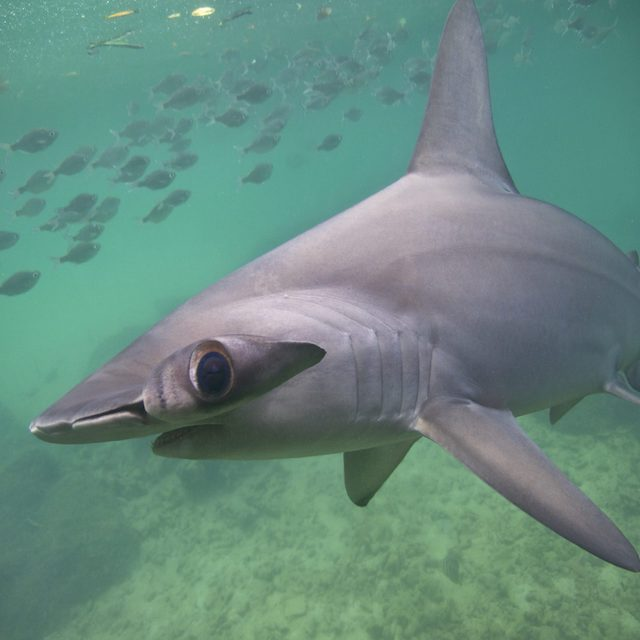hammerhead: (46, 250, 640, 493)
